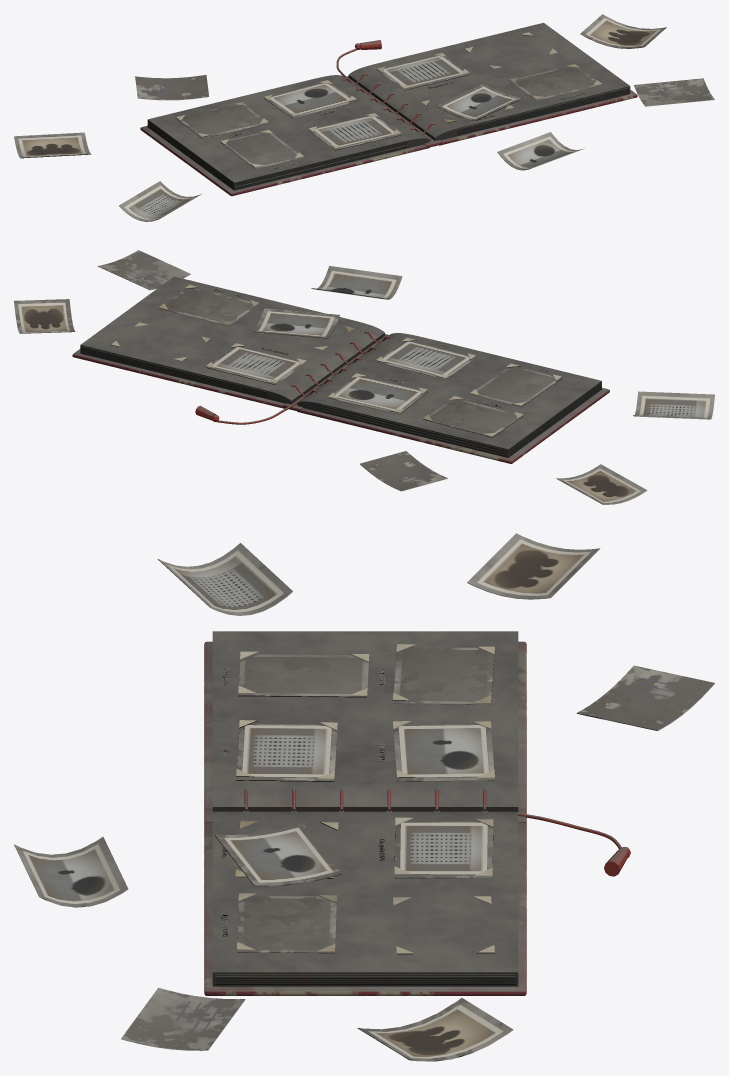
The model's file is SM_PhotoAlbum.fbx.
3 views of the same model, one above another, from view 1: azimuth 30°, elevation 25°; view 2: azimuth 150°, elevation 25°; view 3: azimuth 270°, elevation 25° (orthographic). The views are drawn at different scales.
Parts seen in each view (by area): view 1: SM_PhotoAlbum; view 2: SM_PhotoAlbum; view 3: SM_PhotoAlbum.
Boxes of the visible parts, x1,y1,x2,y2 form: SM_PhotoAlbum: (14,14,714,221); SM_PhotoAlbum: (14,250,714,504); SM_PhotoAlbum: (14,533,714,1061).
Size of the model in its own units: 0.8963 by 0.0205 by 0.5002.
1 material, 1 textured.
